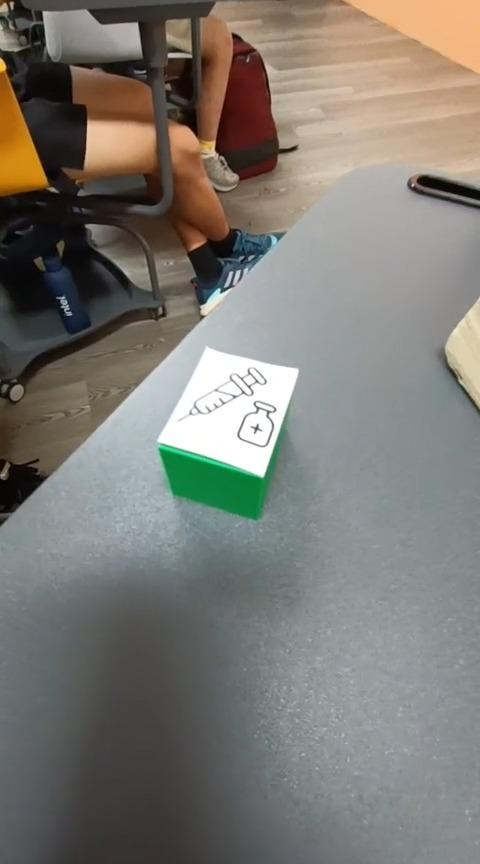antiseptic cream: (155, 344, 299, 520)
